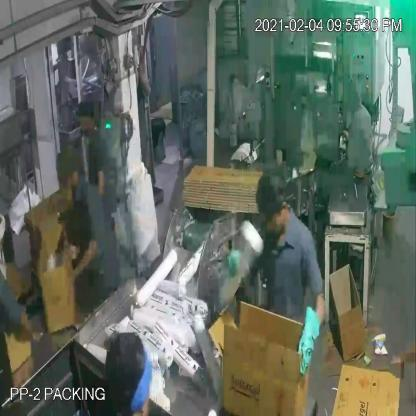glove: (294, 298, 328, 402)
no_glove: (57, 233, 108, 290), (13, 302, 40, 341), (135, 58, 151, 99)
